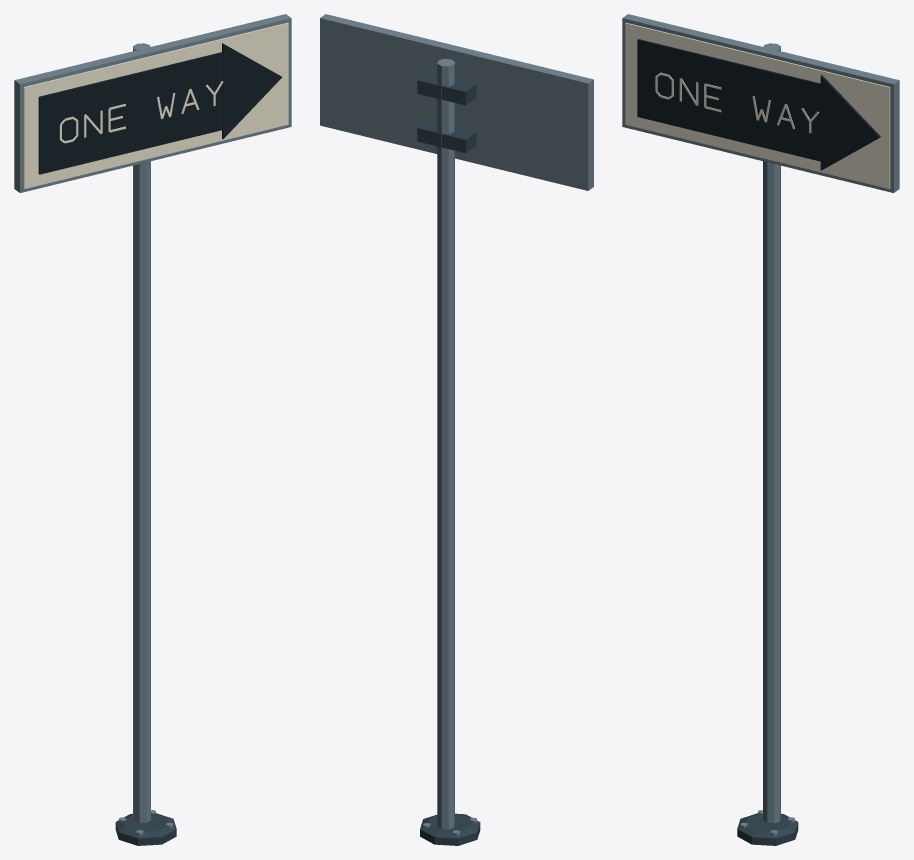
File: sign_one_way.glb
3 views of the same model, side by side, from view 1: azimuth 30°, elevation 25°; view 2: azimuth 150°, elevation 25°; view 3: azimuth 330°, elevation 25° (orthographic).
Parts seen in each view (by area): view 1: sign_one_way; view 2: sign_one_way; view 3: sign_one_way.
Part boxes in pixels (bbox=[...]): sign_one_way: bbox=[14, 14, 291, 845]; sign_one_way: bbox=[320, 14, 593, 845]; sign_one_way: bbox=[622, 14, 899, 845].
Size of the model in its own units: 0.94 by 2.61 by 0.19.
